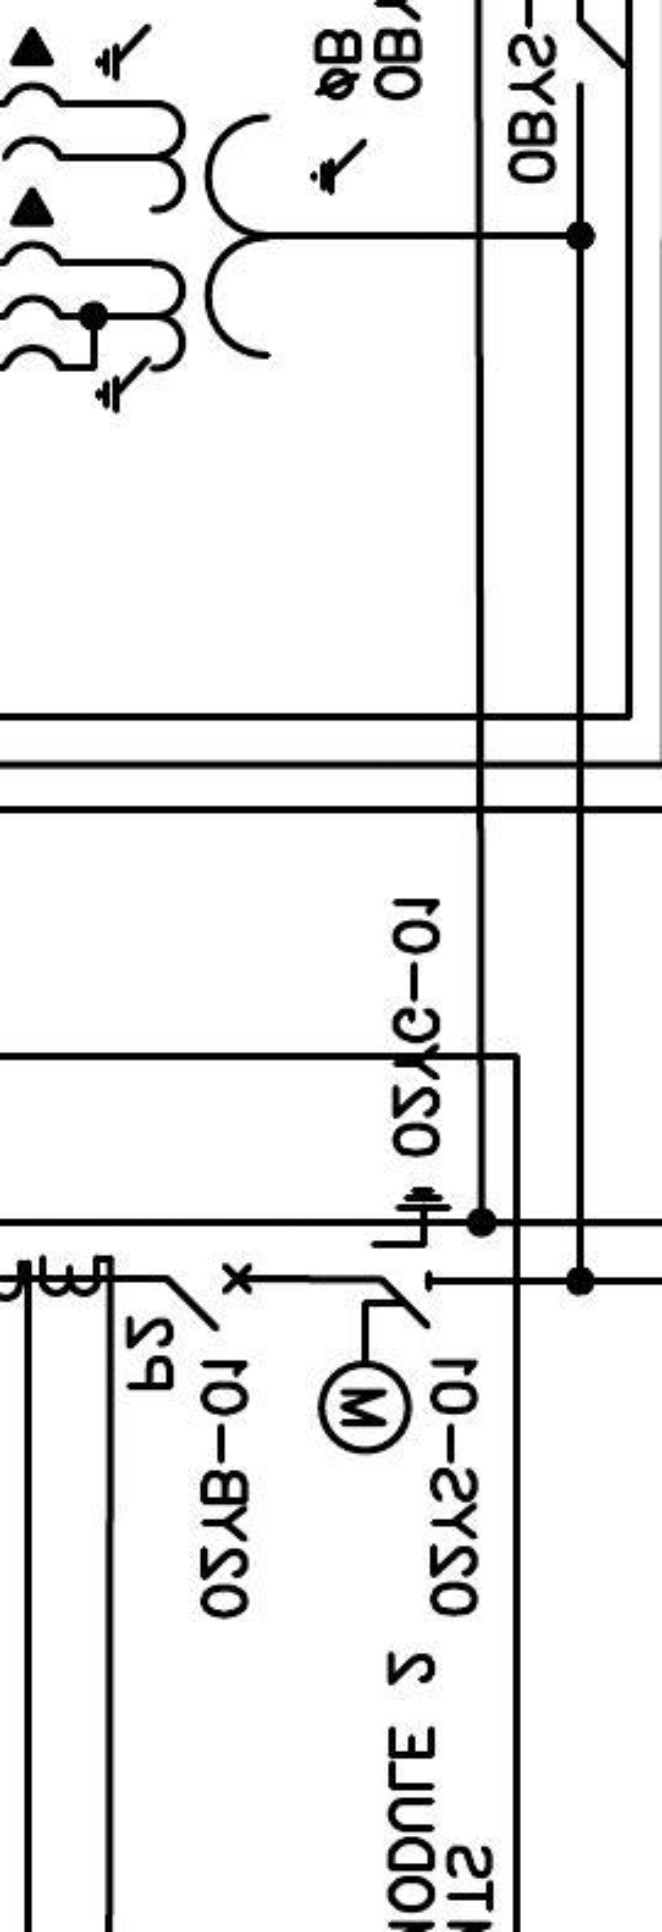115_3ways_ds_w_motor: (316, 1184, 455, 1458)
115_breaker: (164, 1262, 254, 1334)
115_ds: (574, 18, 625, 92)
115_vt_1p: (1, 22, 370, 416)
